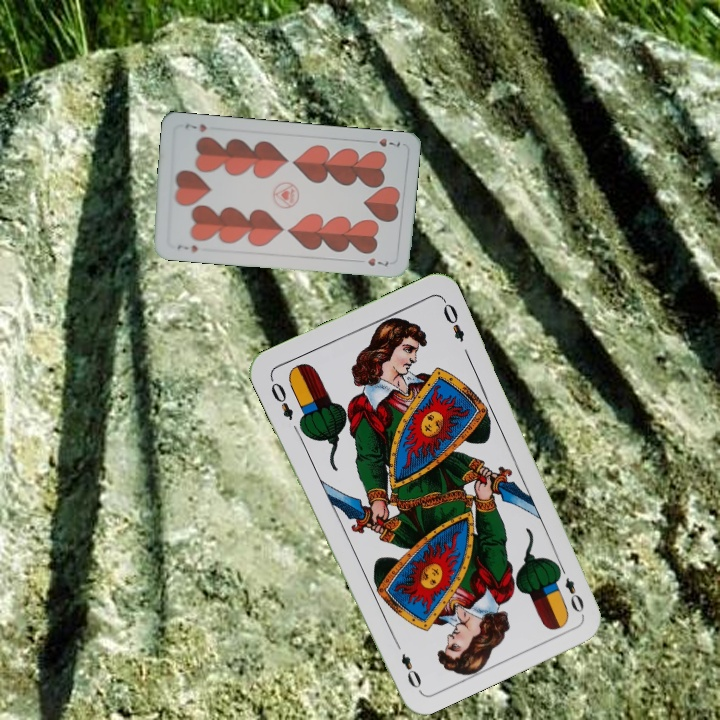EO: (552, 560, 587, 616), (266, 374, 296, 423)
H7: (364, 134, 403, 150), (173, 241, 200, 256)
